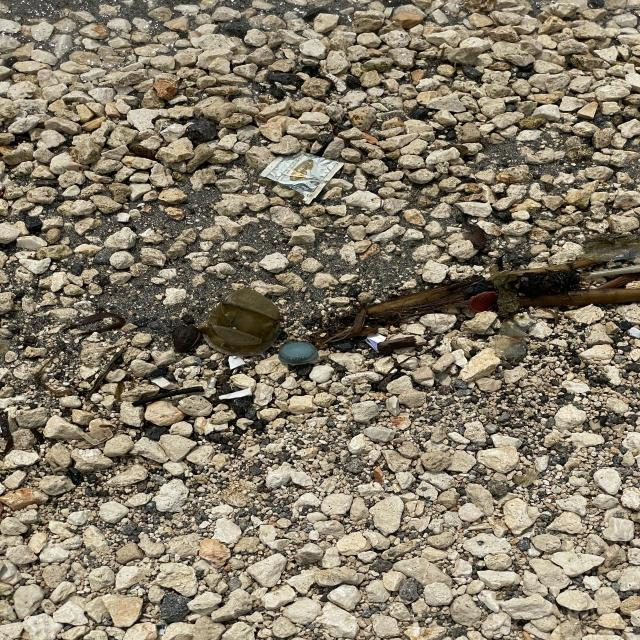plastic_waste: (259, 154, 348, 207), (279, 341, 320, 365)
